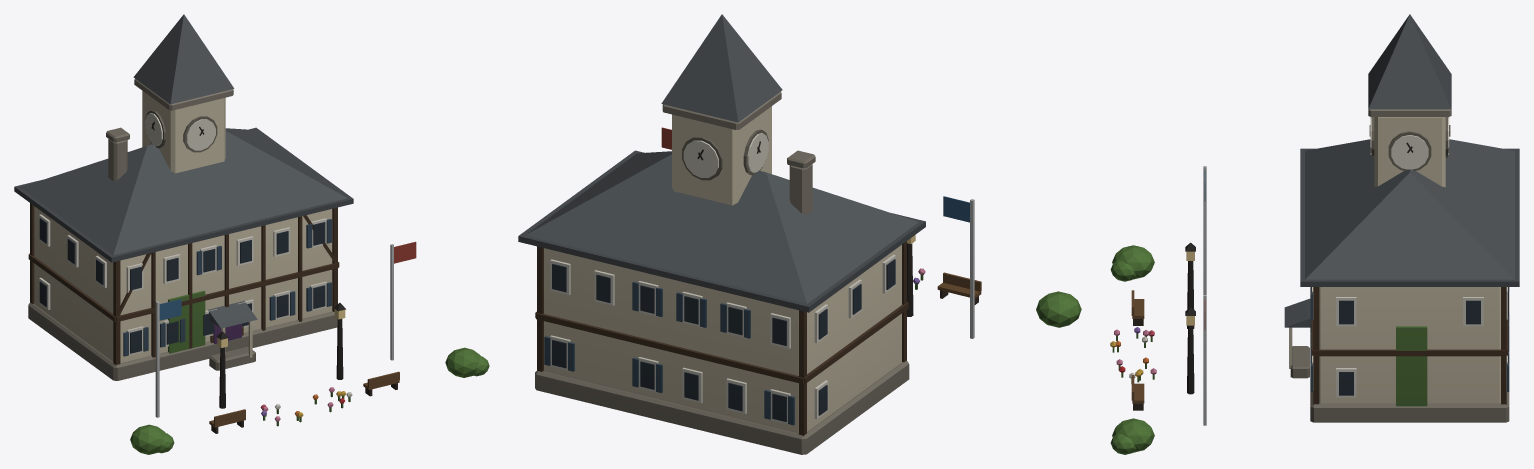
File: townhall.glb
3 renders of one model, left to right at view 1: azimuth 30°, elevation 25°; view 2: azimuth 150°, elevation 25°; view 3: azimuth 270°, elevation 25°, orthographic. The views are drawn at different scales.
Parts seen in each view (by area): view 1: townhall_model; view 2: townhall_model; view 3: townhall_model.
Boxes of the visible parts, x1,y1,x2,y2 form: townhall_model: (14,14,489,454); townhall_model: (518,14,1081,454); townhall_model: (1110,14,1519,454).
Size of the model in its own units: 1.92 by 1.64 by 1.72.
